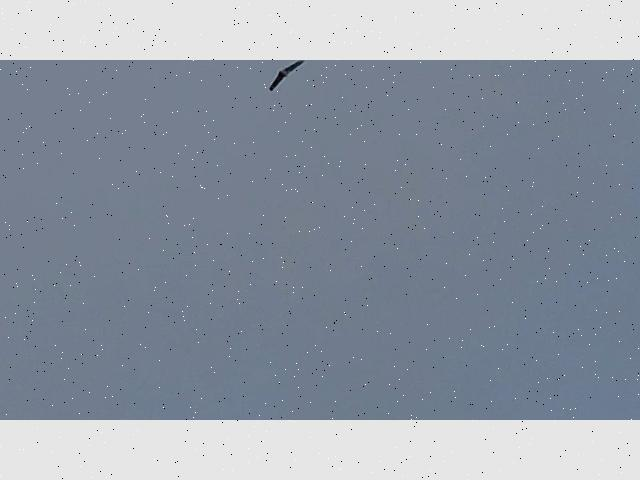Anti-Drone: (269, 60, 307, 92)
